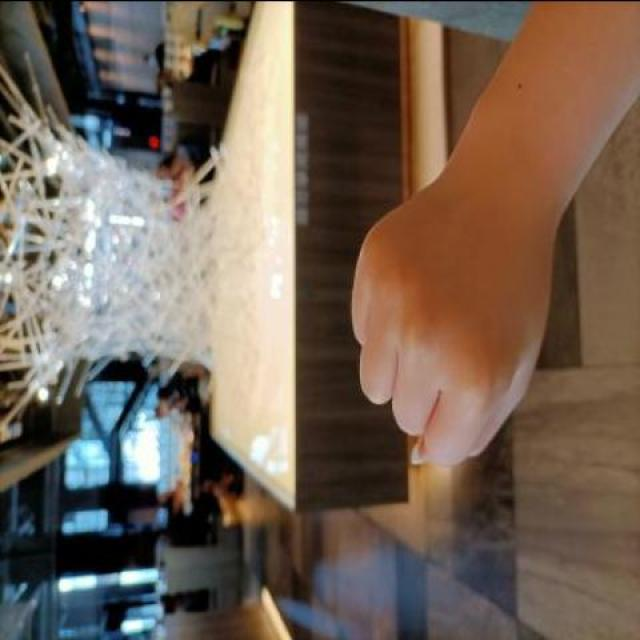Closed Hand: (339, 177, 577, 472)
